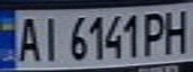1: (84, 12, 106, 61), (121, 10, 142, 57)
4: (103, 11, 127, 60)
6: (63, 12, 87, 61)
A: (12, 14, 42, 63)
H: (160, 7, 193, 55)
I: (36, 14, 63, 62)
P: (139, 9, 172, 57)
